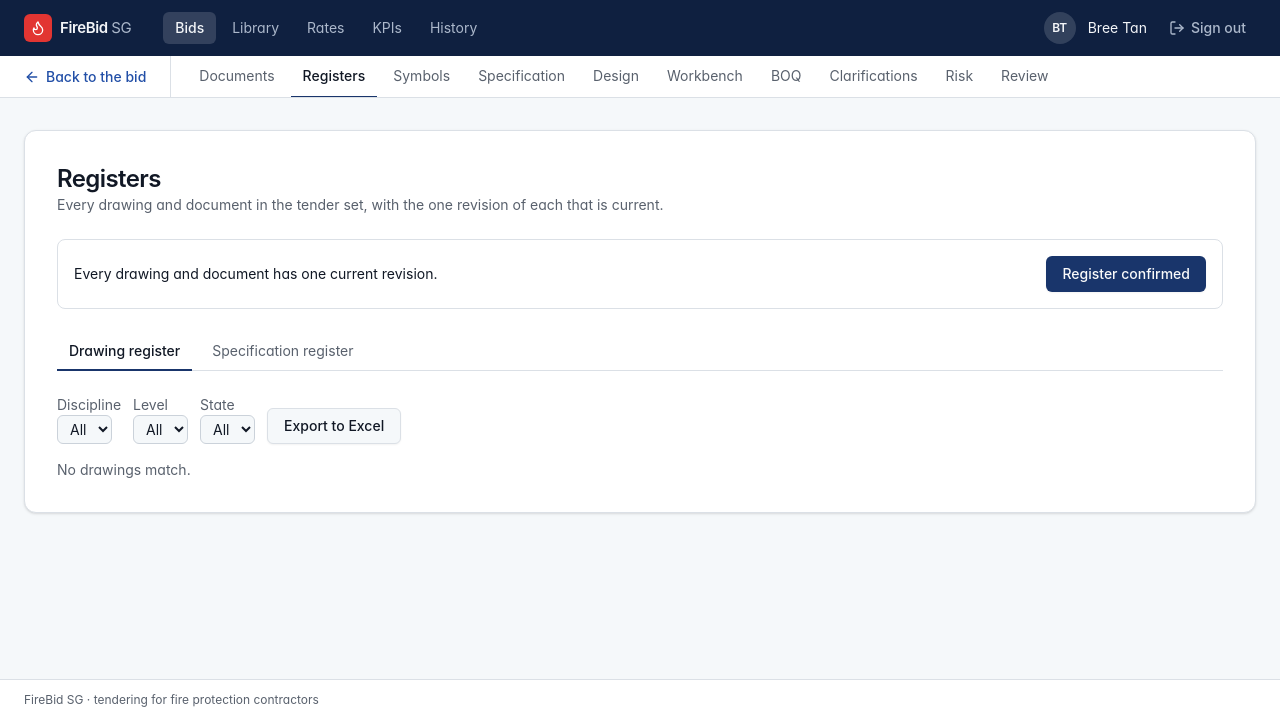
Test: the registers page › shows the specification register on its tab
Click the tab "Specification register": (283, 352) [200,333,366,371]
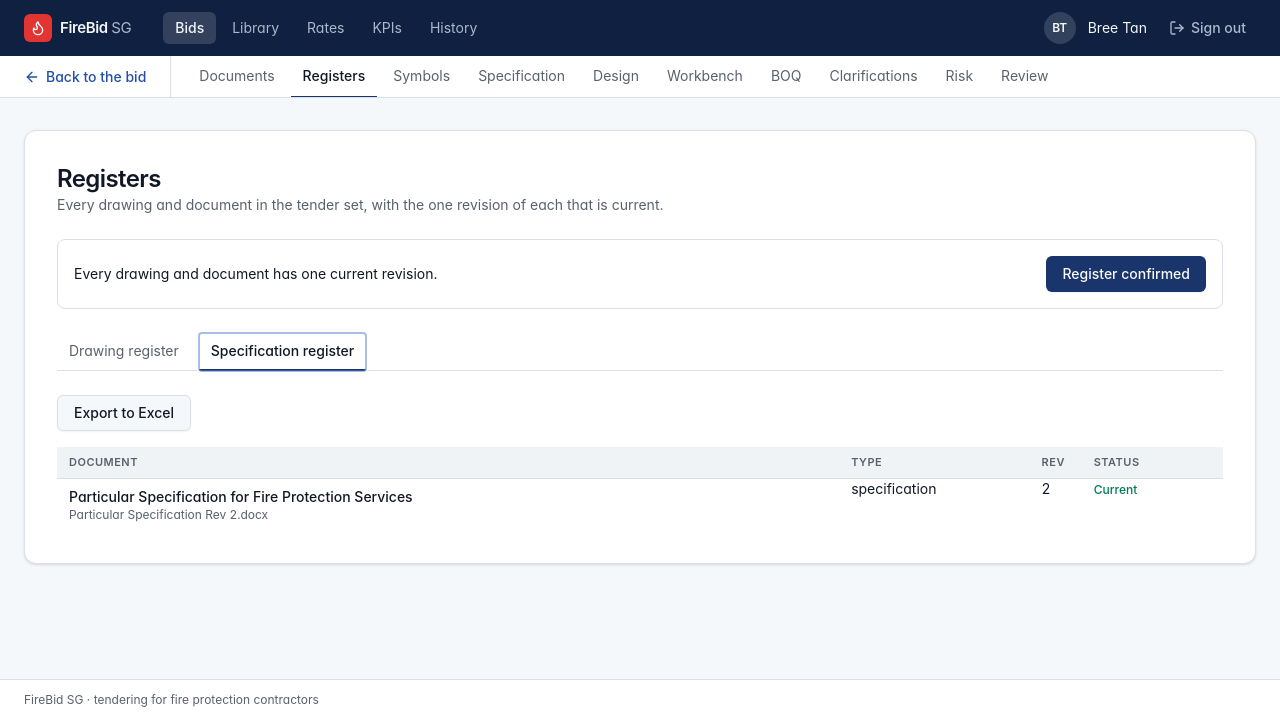
Expected: the text "Particular Specification for Fire Protection Services" is shown, [69,488,413,505]
Expected: the text "specification" is shown, [851,478,1042,531]
